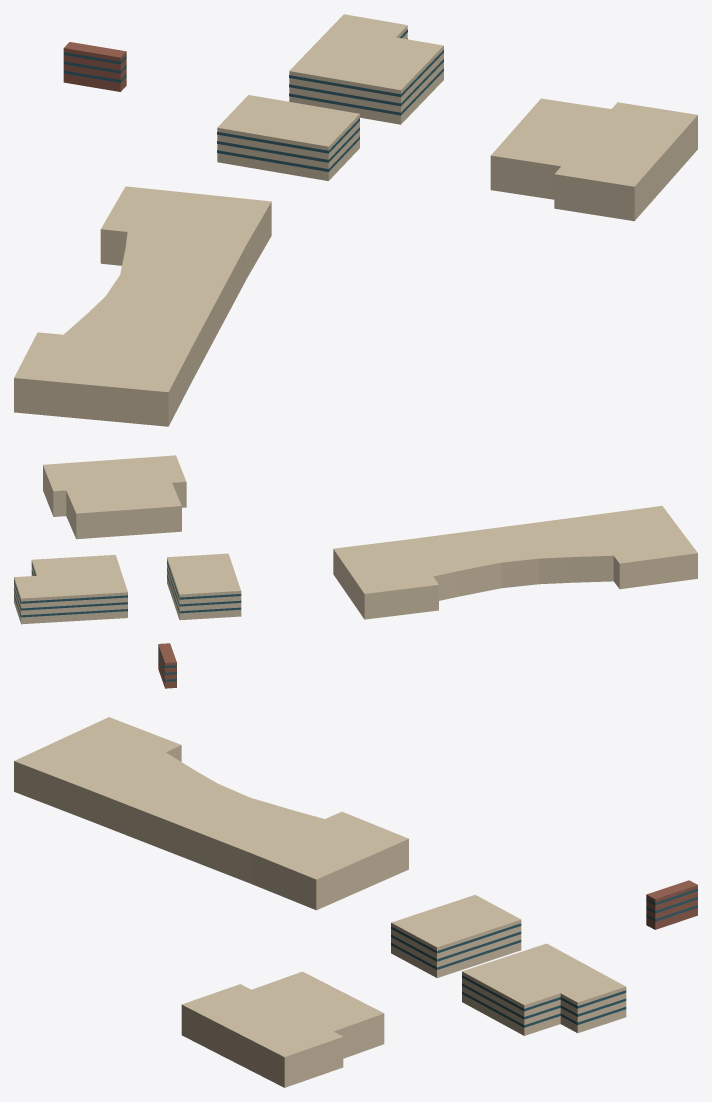
The model's file is city_3_1.glb.
3 renders of one model, top to bottom at view 1: azimuth 30°, elevation 25°; view 2: azimuth 150°, elevation 25°; view 3: azimuth 270°, elevation 25°, orthographic. The views are drawn at different scales.
Visible parts, largest first — view 1: city_3_1; view 2: city_3_1; view 3: city_3_1.
Boxes of the visible parts, x1,y1,x2,y2 form: city_3_1: (14,14,697,426); city_3_1: (14,455,697,688); city_3_1: (14,717,697,1087).
Size of the model in its own units: 356 by 15 by 302.
